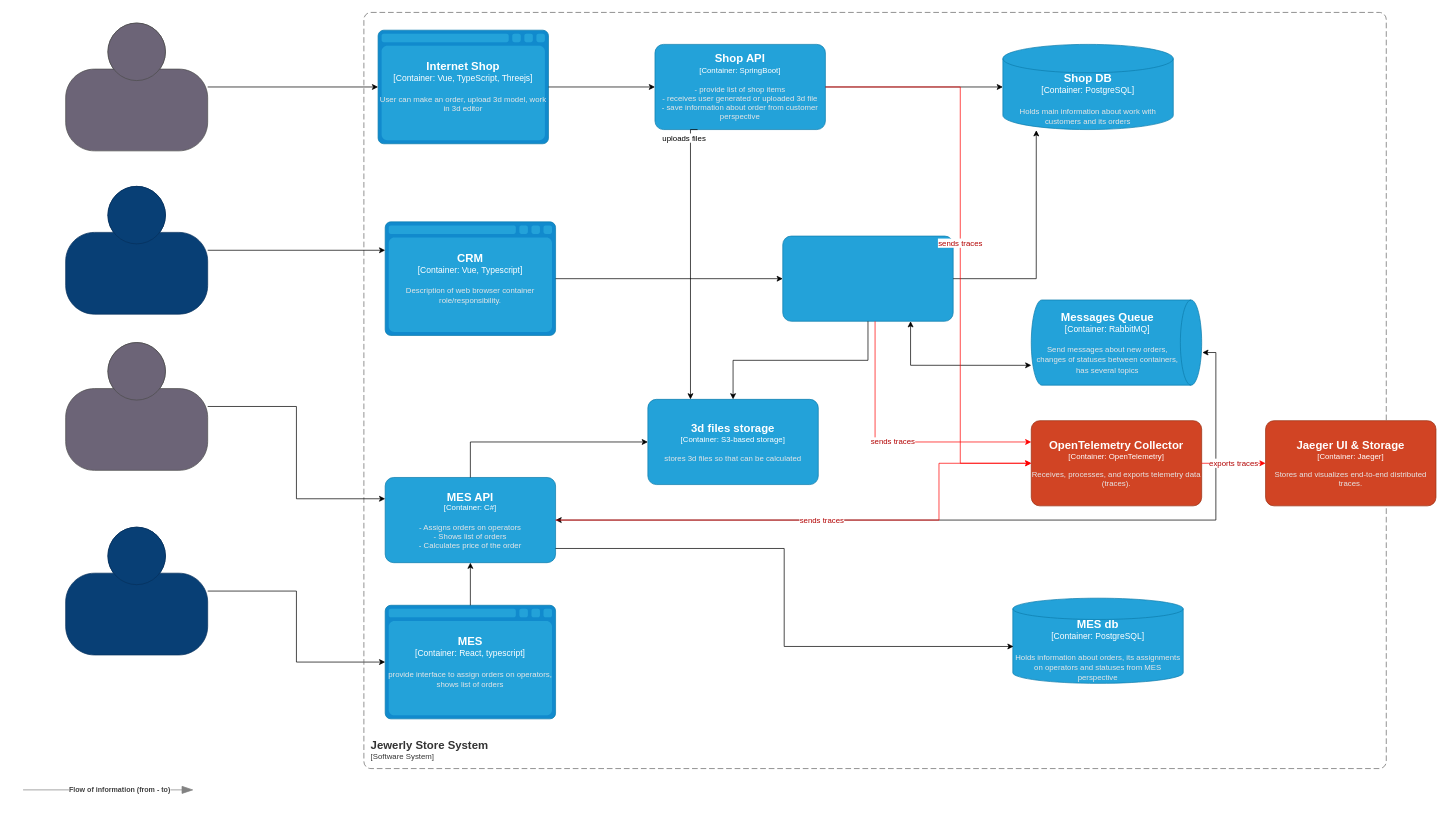
Some shapes in this 1448 by 814 pixel diagram are drawn without their labels. The shapes that lost their labels are listed below. From the top down, each one's centre as x and y in pixels, then its label:
the point at 136,86: Customer [Person] Description of external person.
the point at 136,250: Seller [Person] Operates with order, confirms manufacturing for the user
the point at 867,278: CRM API [Container: SpringBoot] Description of container role/responsibility.
the point at 136,406: API user [Person] Description of external person.
the point at 136,590: Operator [Person] Takes order in work, manufactures jewerly
